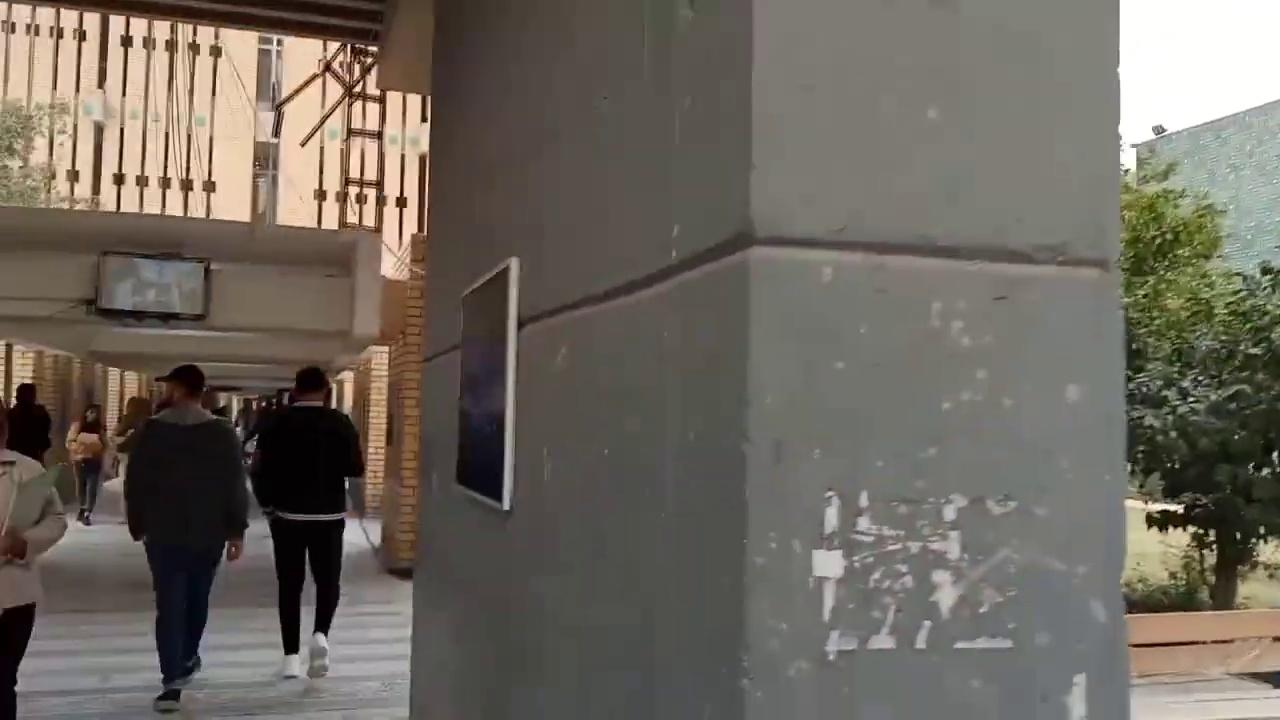person: (120, 362, 250, 710), (247, 365, 366, 679), (0, 400, 68, 718), (65, 403, 108, 526), (5, 382, 51, 467)
tree: (1118, 169, 1278, 609), (0, 94, 70, 208)
